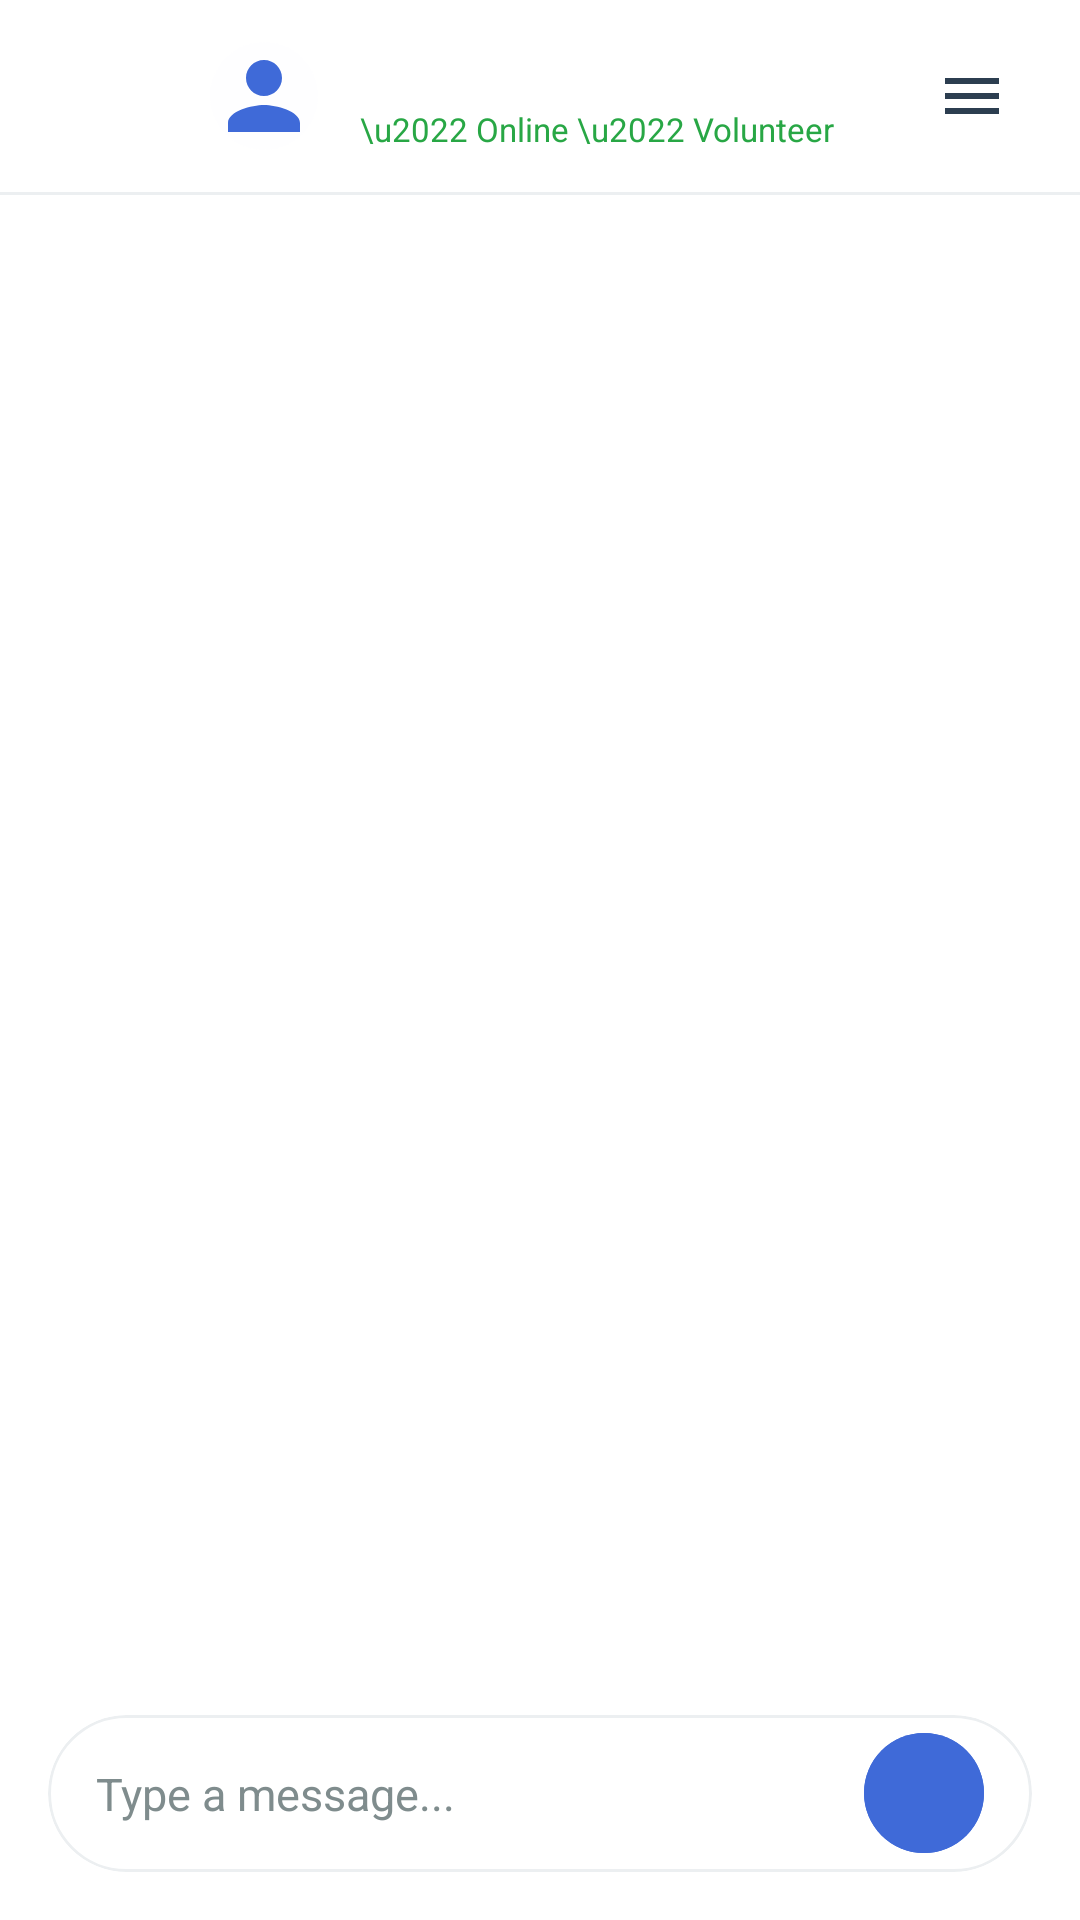

Screen size 1080px x 1920px. Icon name, then its center in pixels as (x,y):
menu: (972,96)
person: (264,96)
